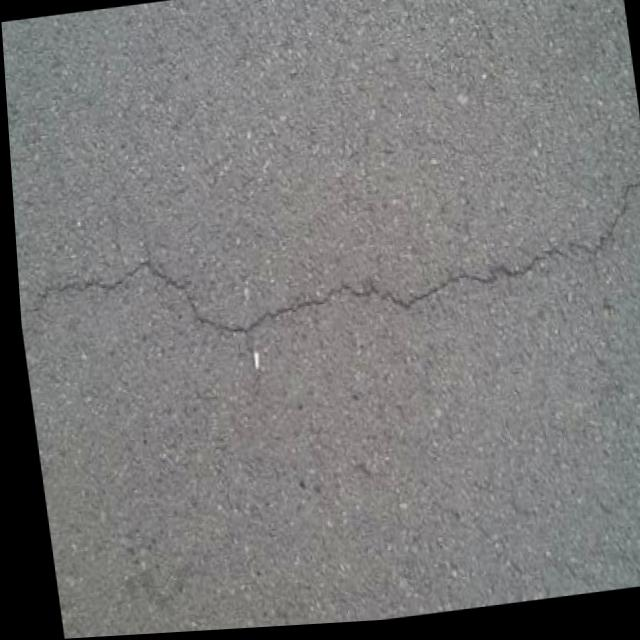Crack: (17, 144, 640, 395)
